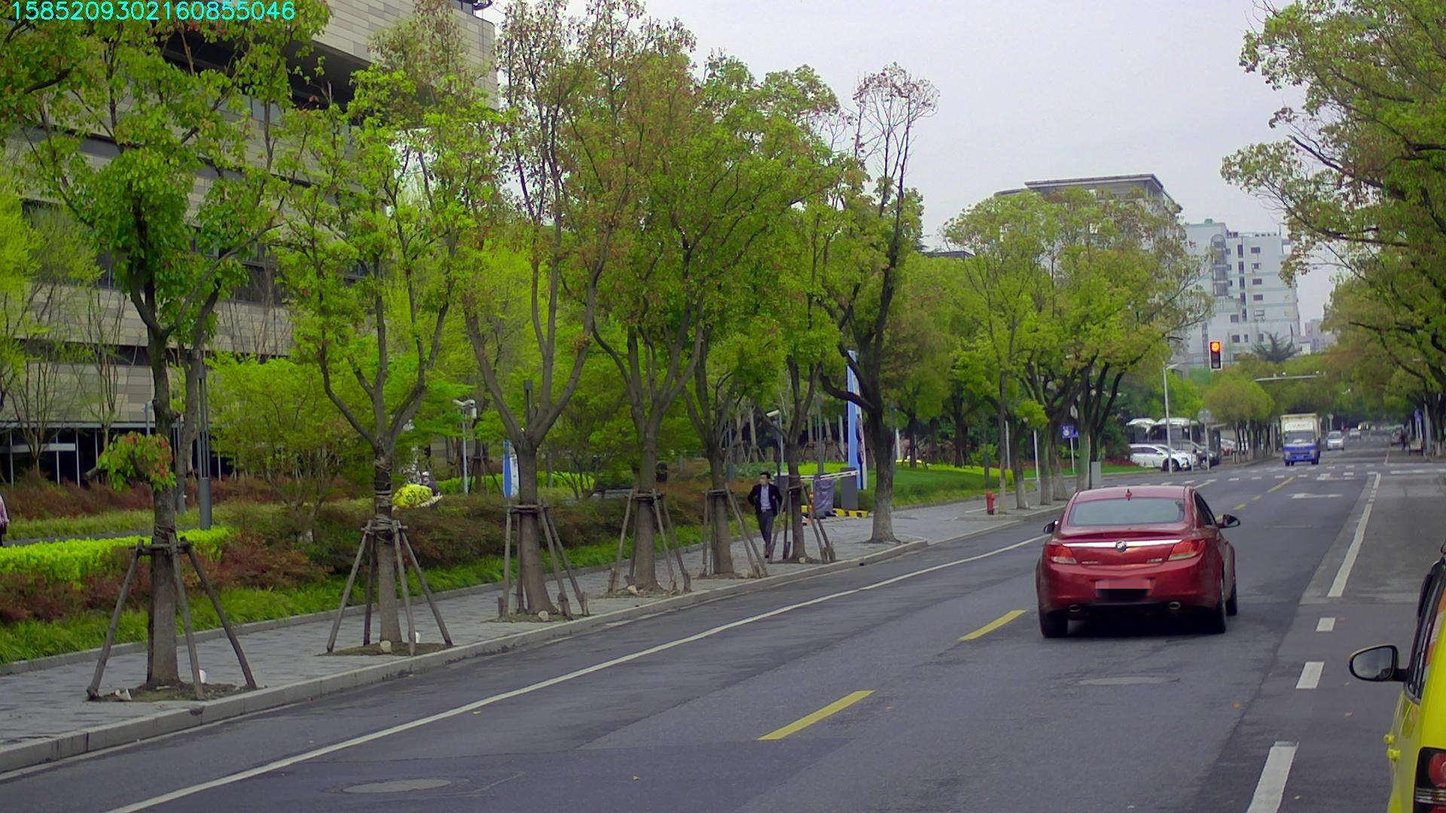red: (1209, 341, 1221, 369)
